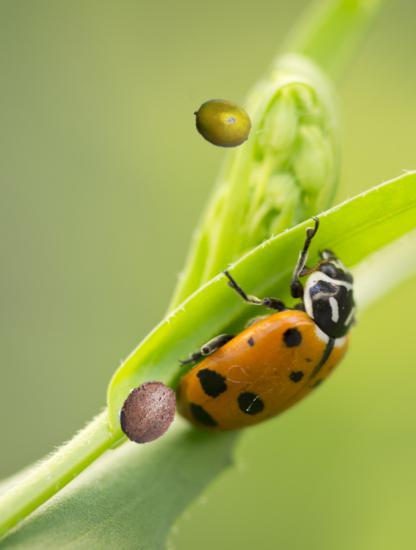Cocos: (114, 378, 183, 447)
Maracuja: (193, 94, 253, 154)
